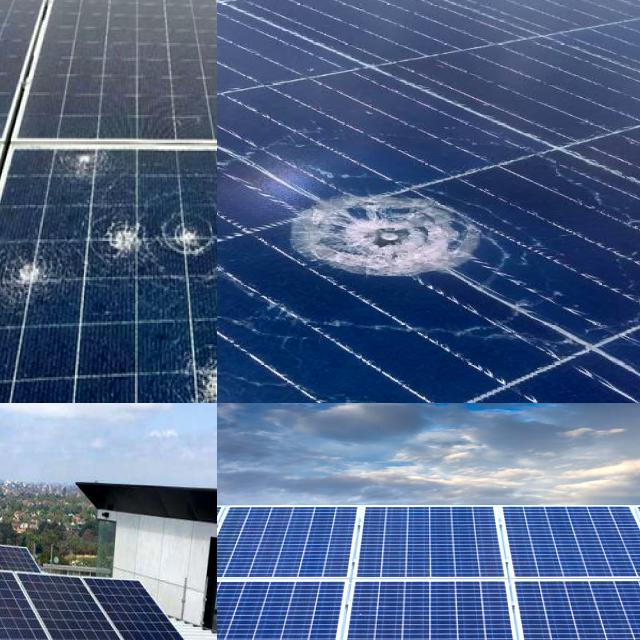crack: (272, 565, 555, 640), (329, 505, 537, 591), (482, 504, 640, 593), (457, 565, 640, 640), (217, 508, 380, 587), (4, 562, 145, 640), (77, 561, 209, 640), (0, 548, 66, 640), (0, 557, 69, 640), (0, 556, 65, 640), (0, 511, 38, 576), (0, 509, 39, 571), (0, 527, 45, 576)
hotspot: (264, 146, 508, 310), (89, 197, 170, 260), (0, 242, 67, 311), (169, 319, 217, 403), (160, 203, 217, 270), (60, 142, 124, 190)
